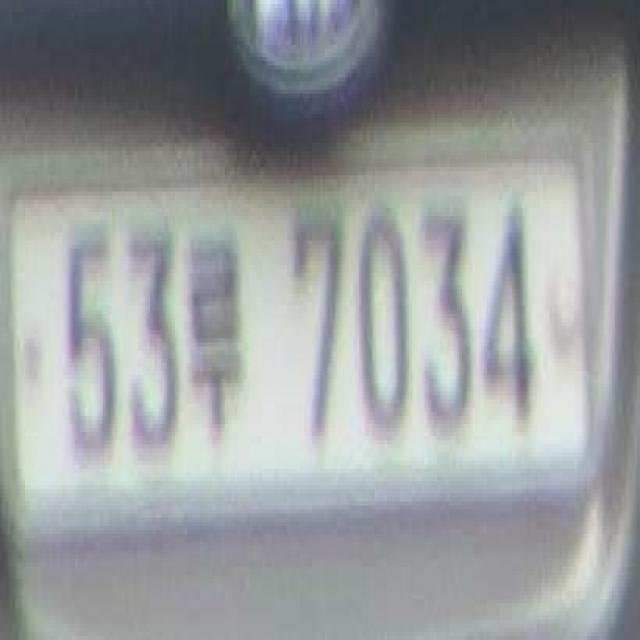0: (356, 179, 414, 477)
3: (422, 200, 479, 460), (119, 224, 181, 453)
4: (487, 204, 539, 456)
5: (61, 224, 120, 465)
7: (286, 204, 354, 465)
license_plate: (1, 122, 592, 583)
lu: (181, 236, 255, 448)
